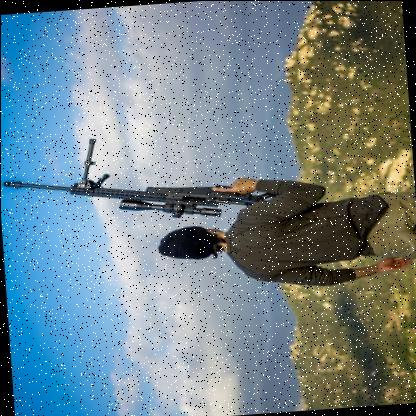rifle: (0, 133, 274, 235)
